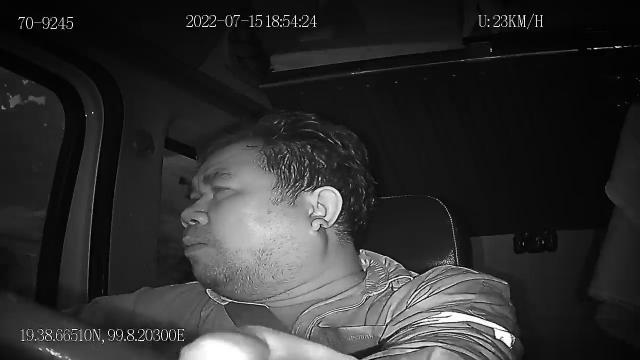Seatbelt: (223, 300, 291, 332)
